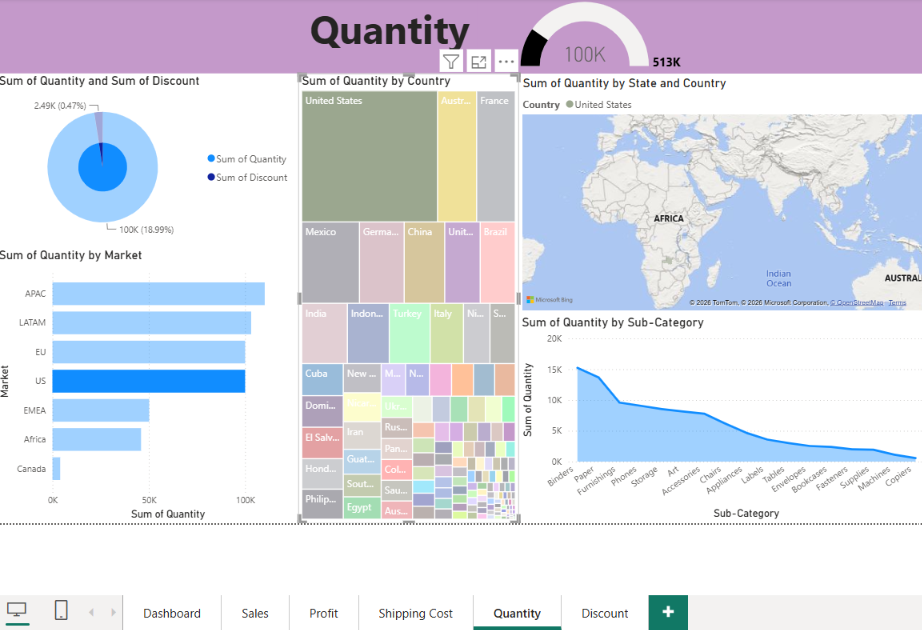

This screenshot's page, from the dashboard's own definition file:
{"tool":"powerbi","page":{"name":"Quantity","canvas":[1280,720],"ordinal":4},"visuals":[{"type":"textbox","box":[0,0,1280,103.1],"z":0},{"type":"gauge","fields":{"Y":["Sum(New_Visualized_Sales.Quantity)"]},"box":[661.5,0,313.8,103.1],"z":1000},{"type":"pieChart","fields":{"Y":["Sum(New_Visualized_Sales.Quantity)","Sum(New_Visualized_Sales.Discount)"]},"box":[0,103.1,415.4,238.5],"z":2000},{"type":"filledMap","fields":{"Category":["New_Visualized_Sales.State"],"Series":["New_Visualized_Sales.Country"]},"box":[718.5,106.2,561.5,327.7],"z":3000},{"type":"treemap","fields":{"Group":["New_Visualized_Sales.Country"],"Values":["Sum(New_Visualized_Sales.Quantity)"]},"box":[415.4,103.1,303.1,616.9],"z":4000},{"type":"barChart","fields":{"Category":["New_Visualized_Sales.Market"],"Y":["Sum(New_Visualized_Sales.Quantity)"]},"box":[0,341,415,379],"z":5000},{"type":"areaChart","fields":{"Category":["New_Visualized_Sales.Sub-Category"],"Y":["Sum(New_Visualized_Sales.Quantity)"]},"box":[718,434,562,286],"z":6000}]}

Visuals, with their boxes on the page's 1280x720 design canvas (x1, y1, x2, y2). These are canvas units, not pixel positions in the 922x630 screenshot, which may show the page scaled, cropped or inside an application window:
textbox: 0,0,1280,103
gauge - Sum(New_Visualized_Sales.Quantity): 662,0,975,103
pieChart - Sum(New_Visualized_Sales.Quantity) x Sum(New_Visualized_Sales.Discount): 0,103,415,342
filledMap - New_Visualized_Sales.State x New_Visualized_Sales.Country: 718,106,1280,434
treemap - New_Visualized_Sales.Country x Sum(New_Visualized_Sales.Quantity): 415,103,718,720
barChart - New_Visualized_Sales.Market x Sum(New_Visualized_Sales.Quantity): 0,341,415,720
areaChart - New_Visualized_Sales.Sub-Category x Sum(New_Visualized_Sales.Quantity): 718,434,1280,720
